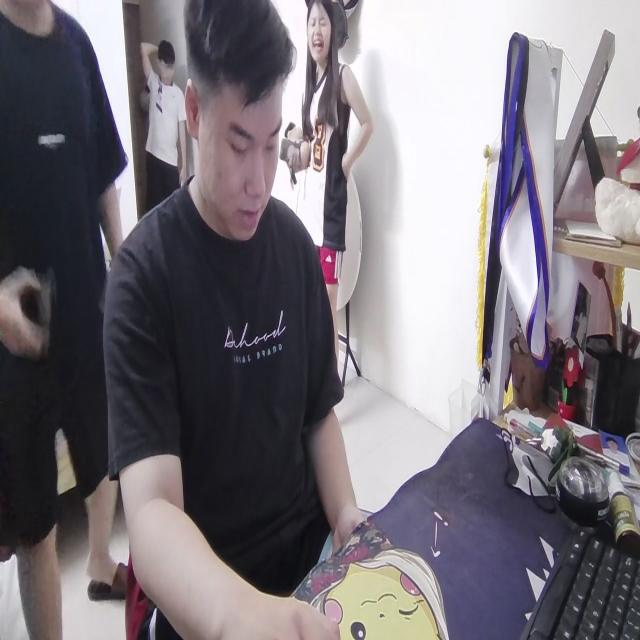extra_person: (1, 0, 135, 640), (284, 2, 376, 299), (139, 27, 192, 214)
student: (107, 0, 367, 640)
